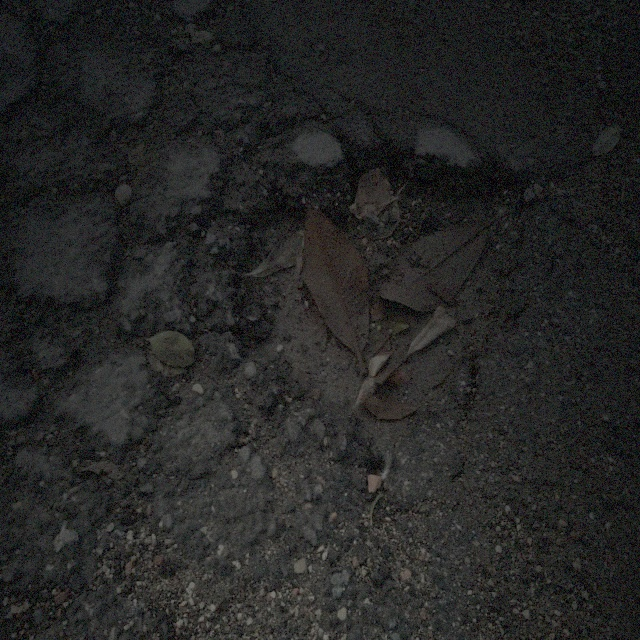pothole: (220, 125, 530, 496)
